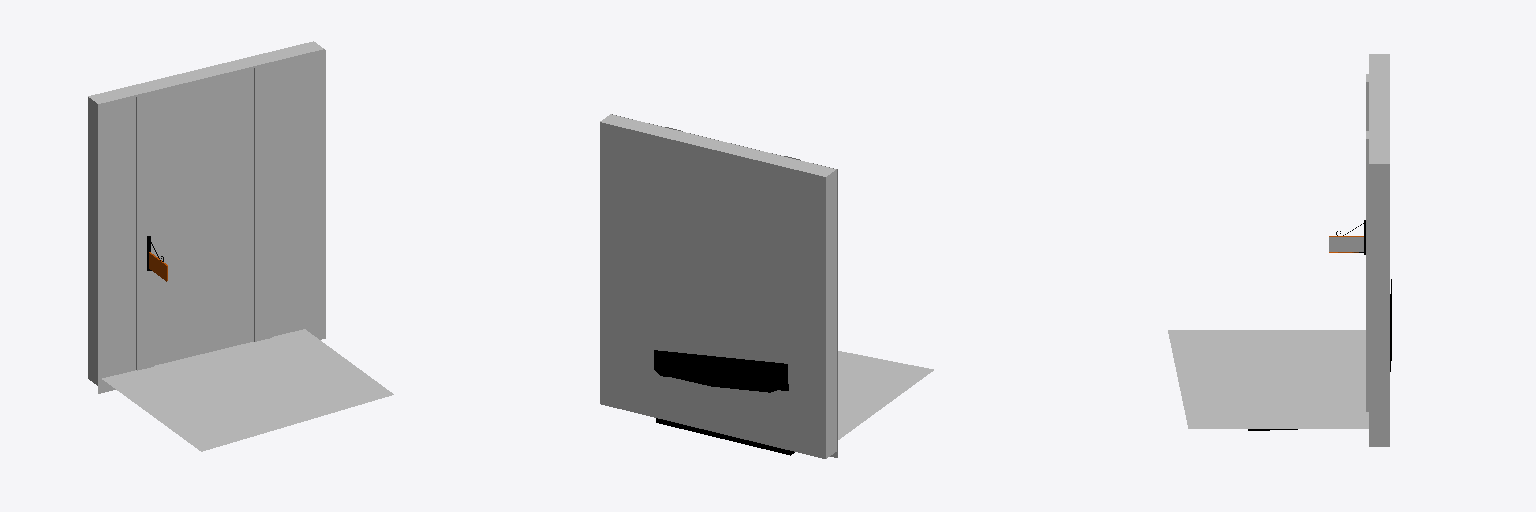
File: voie9_3_4.obj
3 views of the same model, side by side, from view 1: azimuth 30°, elevation 25°; view 2: azimuth 150°, elevation 25°; view 3: azimuth 270°, elevation 25° (orthographic).
Visible parts, largest first — view 1: Cube; view 2: Cube; view 3: Cube.
Part boxes in pixels (left/top/right/bottom): Cube: left=88, top=41, right=393, bottom=451; Cube: left=600, top=114, right=933, bottom=458; Cube: left=1168, top=54, right=1391, bottom=446.
Size of the model in its own units: 27.93 by 34.34 by 23.82.